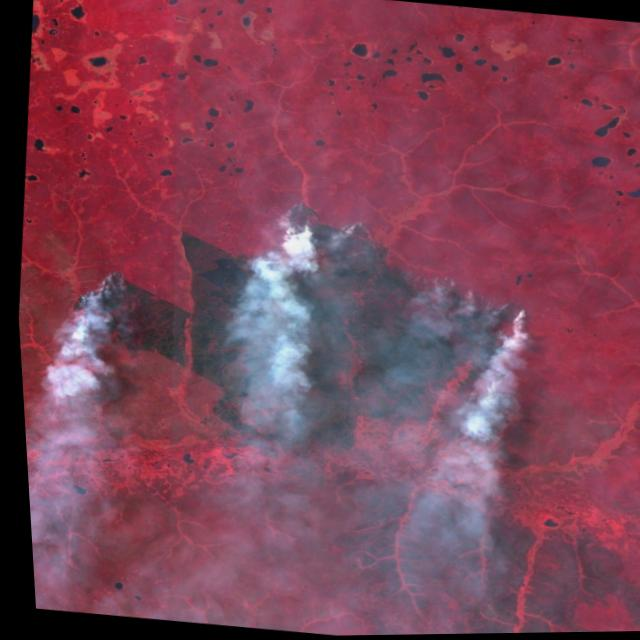fire: (216, 189, 547, 417), (47, 256, 142, 354)
